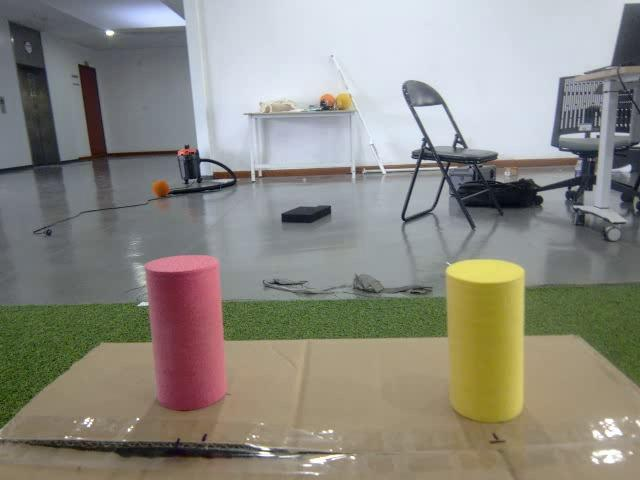red_cylinder: (144, 255, 226, 410)
yellow_cylinder: (446, 259, 526, 421)
